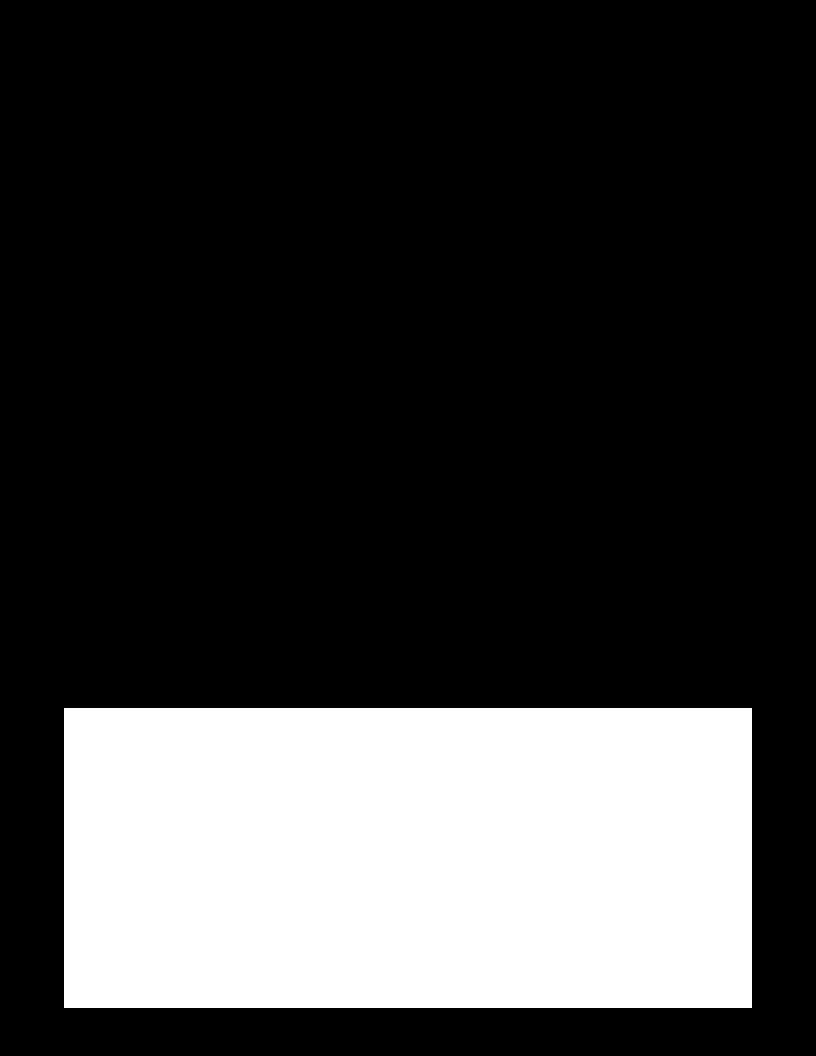table: (64, 708, 751, 1007)
